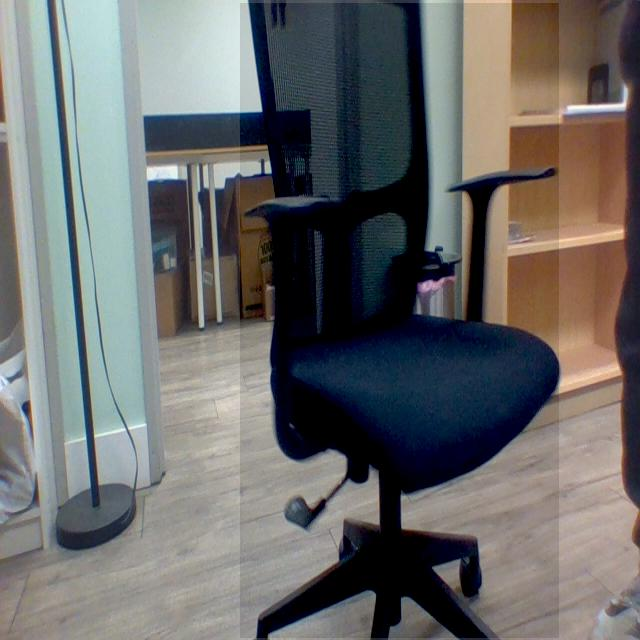black-chair: (240, 3, 560, 639)
